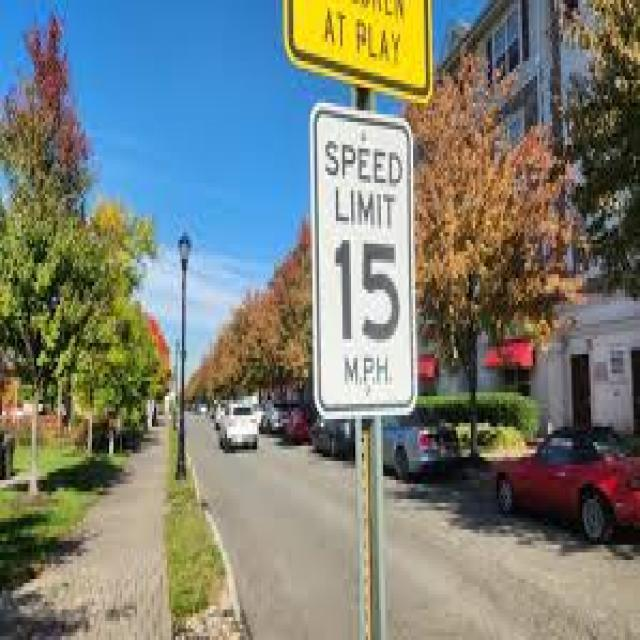speedLimit15: (308, 111, 420, 358)
